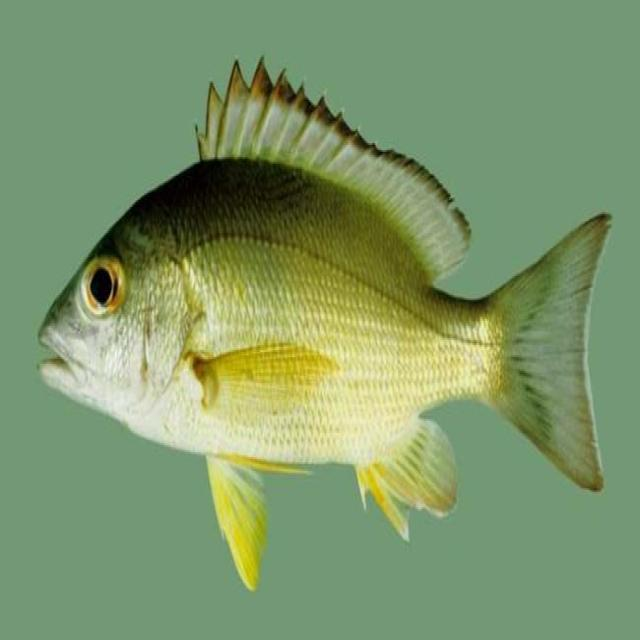ikan: (35, 54, 612, 592)
